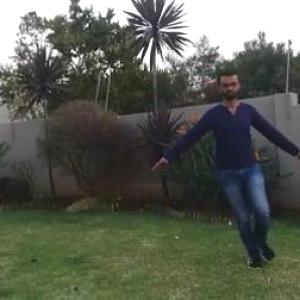land: (151, 72, 299, 254)
